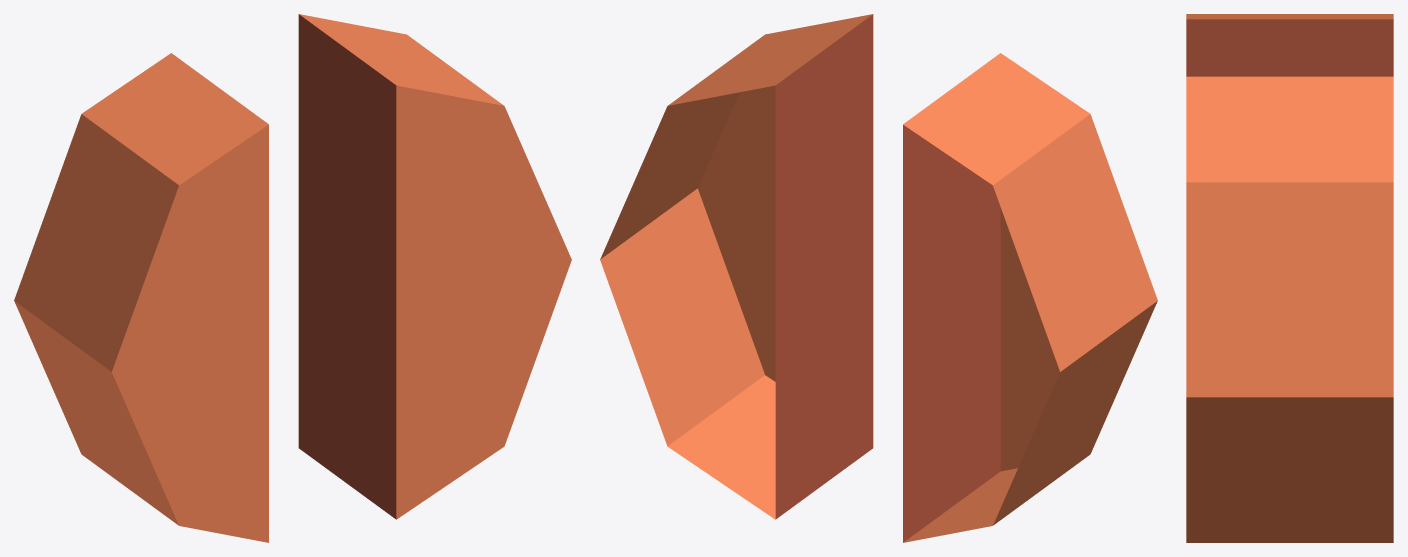
The model's file is Wand_cutout.glb.
The picture shows the model from 3 angles, left to right: view 1: azimuth 30°, elevation 25°; view 2: azimuth 150°, elevation 25°; view 3: azimuth 270°, elevation 25°; orthographic projection. The views are drawn at different scales.
Parts seen in each view (by area): view 1: Wand_cutout; view 2: Wand_cutout; view 3: Wand_cutout.
Part boxes in pixels (box(x1,y1,x2,y2)): Wand_cutout: box(14, 14, 571, 542); Wand_cutout: box(600, 14, 1157, 542); Wand_cutout: box(1186, 14, 1393, 542).
Bounding box in the file's own units: 0.1583 × 0.1427 × 0.0582.
